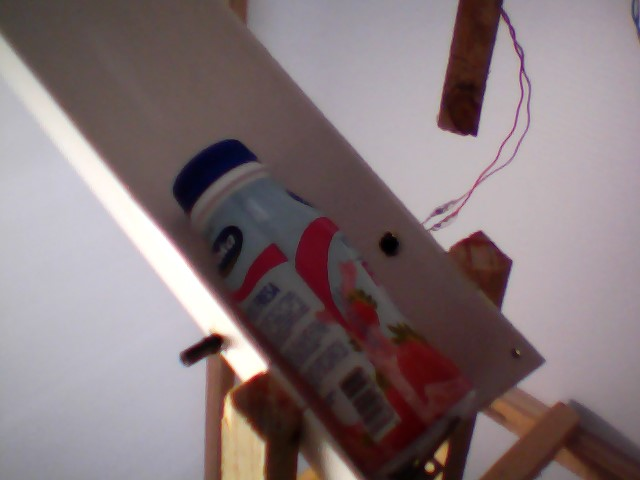plastico: (167, 135, 484, 470)
